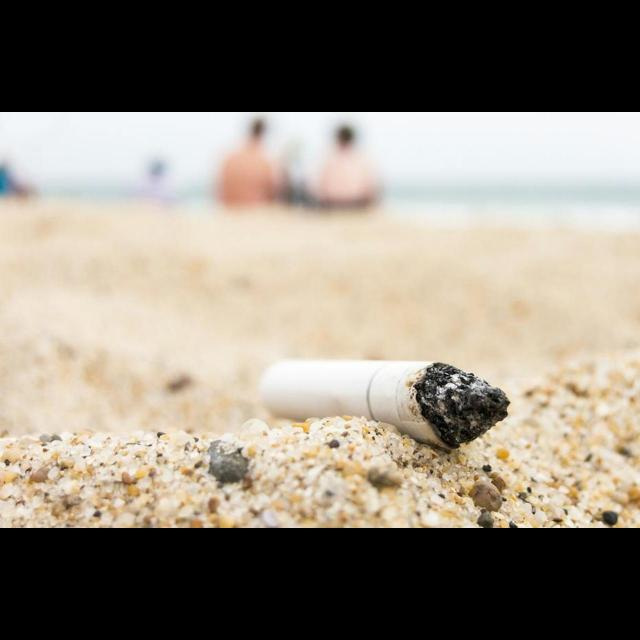cigarette: (258, 360, 510, 451)
